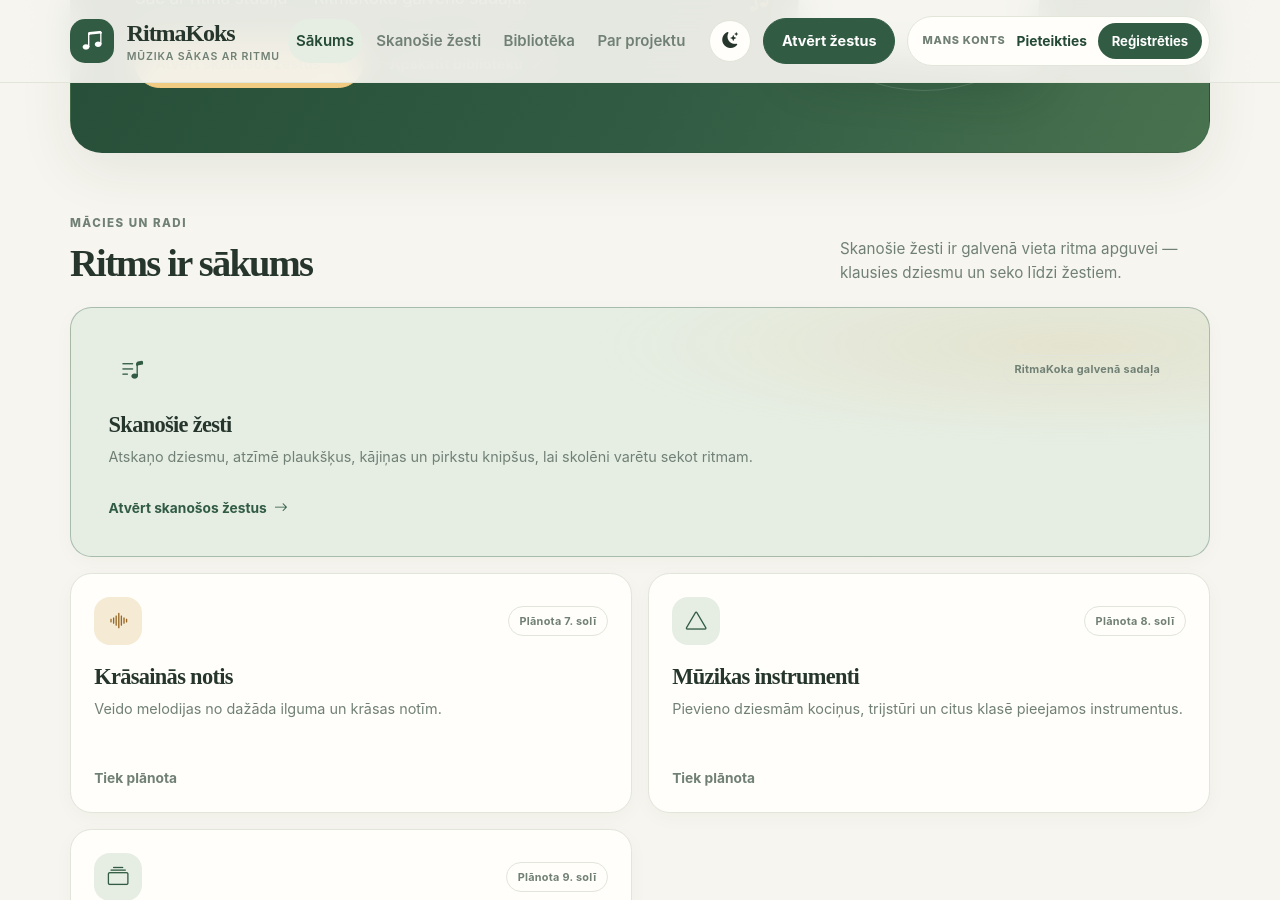
Scenario: application shell › opens the song-and-gesture activity from the homepage studio card
(page scrolled)
What coordinates should you click on to do the following:
click the link with class "studio-card-action" showing "Atvērt skanošos žestus"
I would click on:
 (198, 508)
Its box is [109, 496, 288, 518].
(page scrolled)
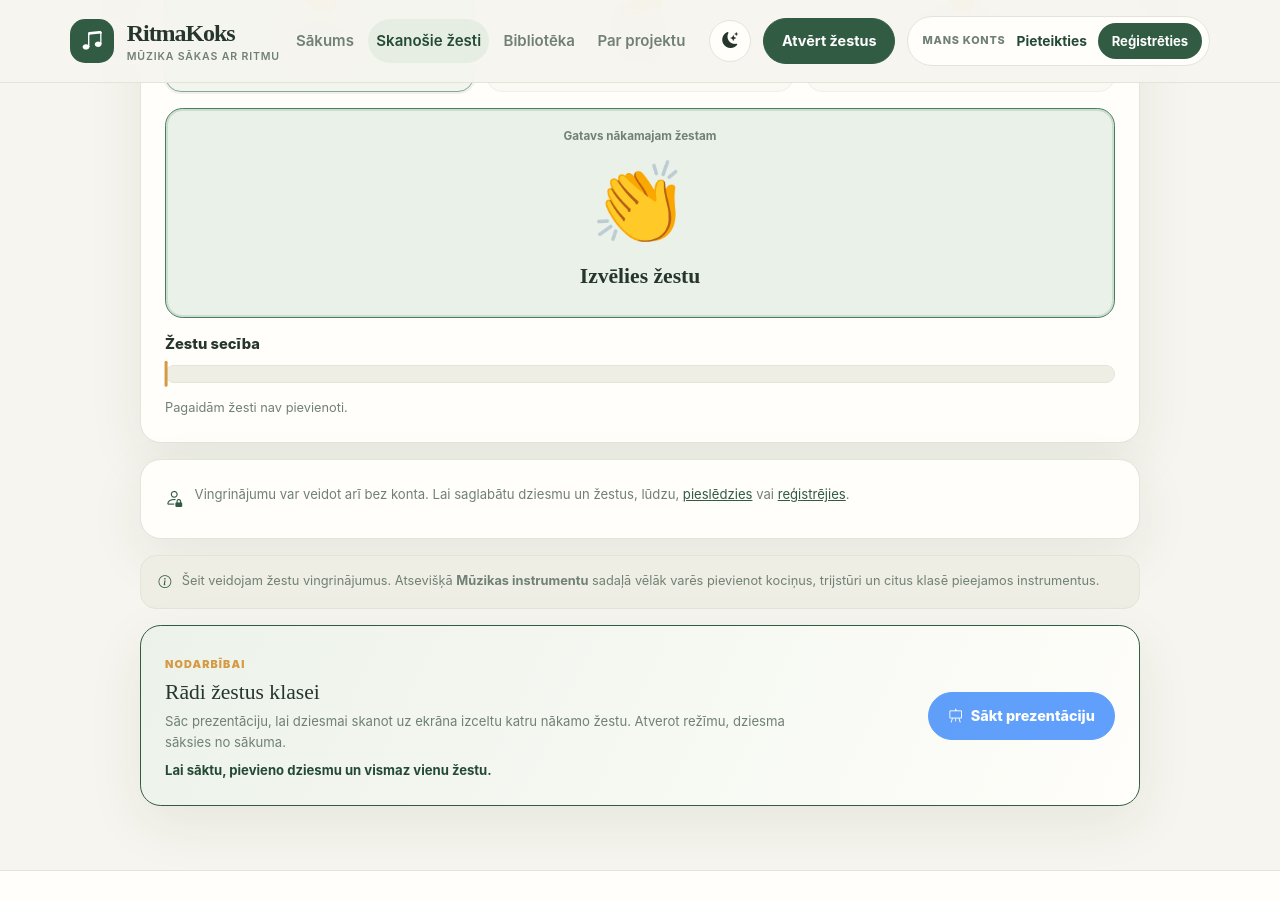
Check: the element with class "sign-in-panel" shows "Lai saglabātu dziesmu un žestus", box [195, 486, 683, 502]
